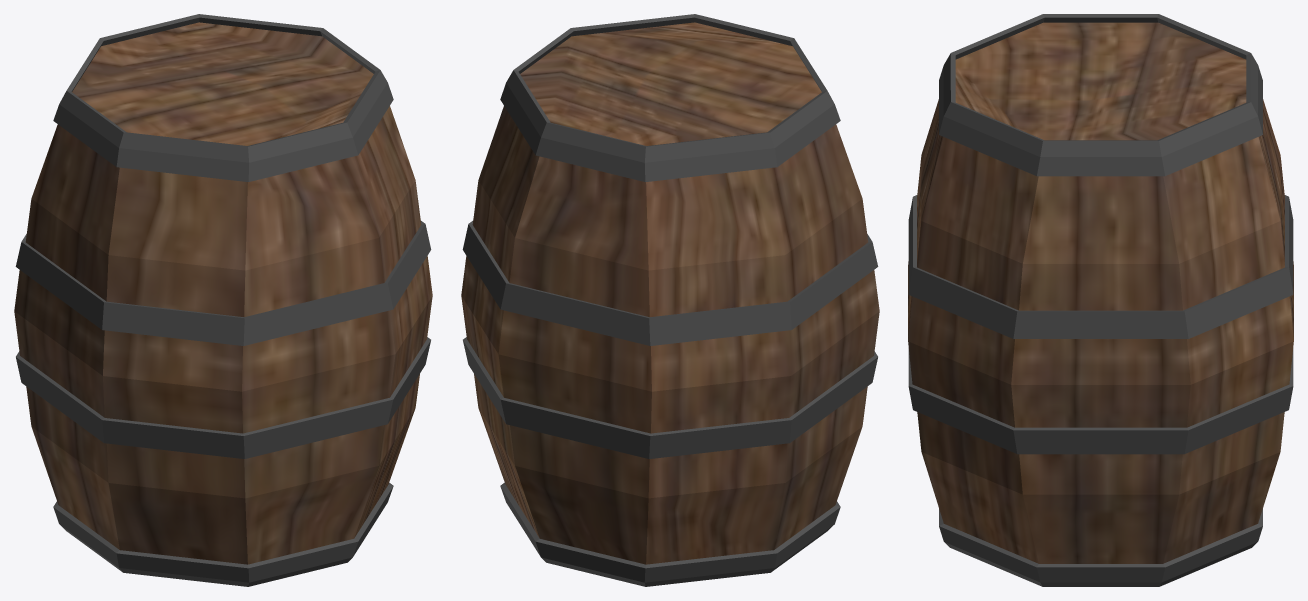
The model's file is Barrel.glb.
The picture shows the model from 3 angles, left to right: view 1: azimuth 30°, elevation 25°; view 2: azimuth 150°, elevation 25°; view 3: azimuth 270°, elevation 25°; orthographic projection.
Visible parts, largest first — view 1: Cube; view 2: Cube; view 3: Cube.
Part boxes in pixels (left/top/right/bottom): Cube: left=14, top=14, right=432, bottom=586; Cube: left=461, top=14, right=879, bottom=586; Cube: left=908, top=14, right=1293, bottom=586.
Size of the model in its own units: 0.9579 by 1.22 by 0.9579.
2 materials, 1 textured.
